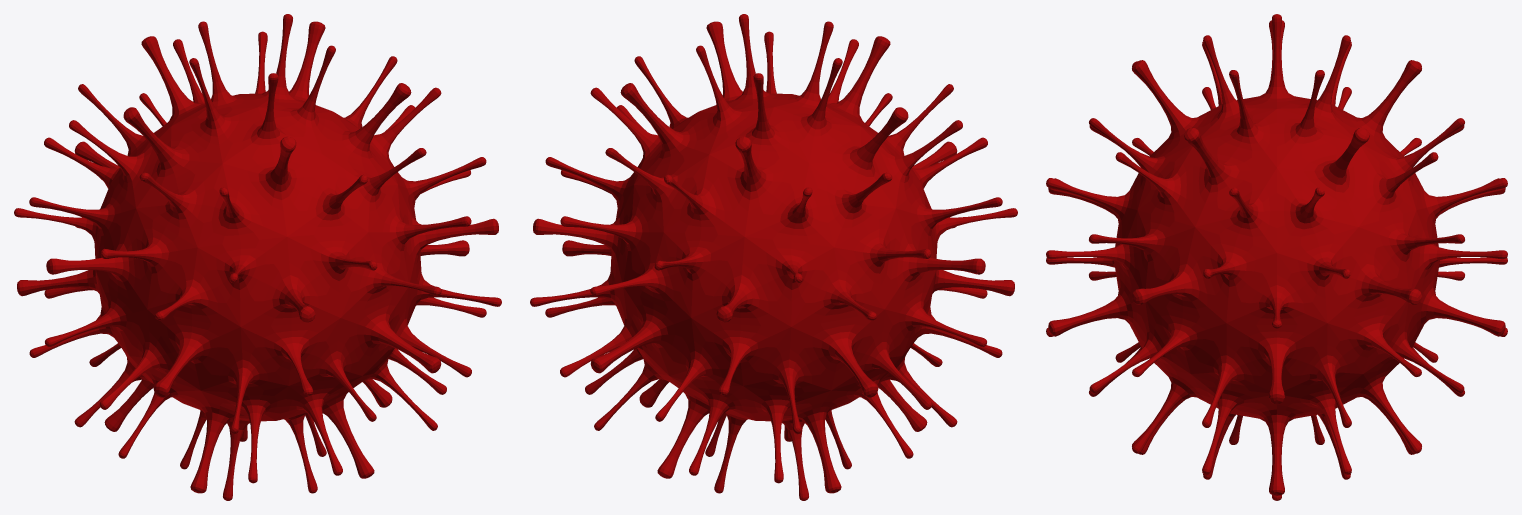
Rendered from Virus.fbx.
3 renders of one model, left to right at view 1: azimuth 30°, elevation 25°; view 2: azimuth 150°, elevation 25°; view 3: azimuth 270°, elevation 25°, orthographic.
Parts seen in each view (by area): view 1: Virus; view 2: Virus; view 3: Virus.
Part boxes in pixels (box(x1,y1,x2,y2)): Virus: box(14, 14, 501, 500); Virus: box(530, 14, 1017, 500); Virus: box(1046, 14, 1507, 500).
Size of the model in its own units: 285 by 275 by 271.
